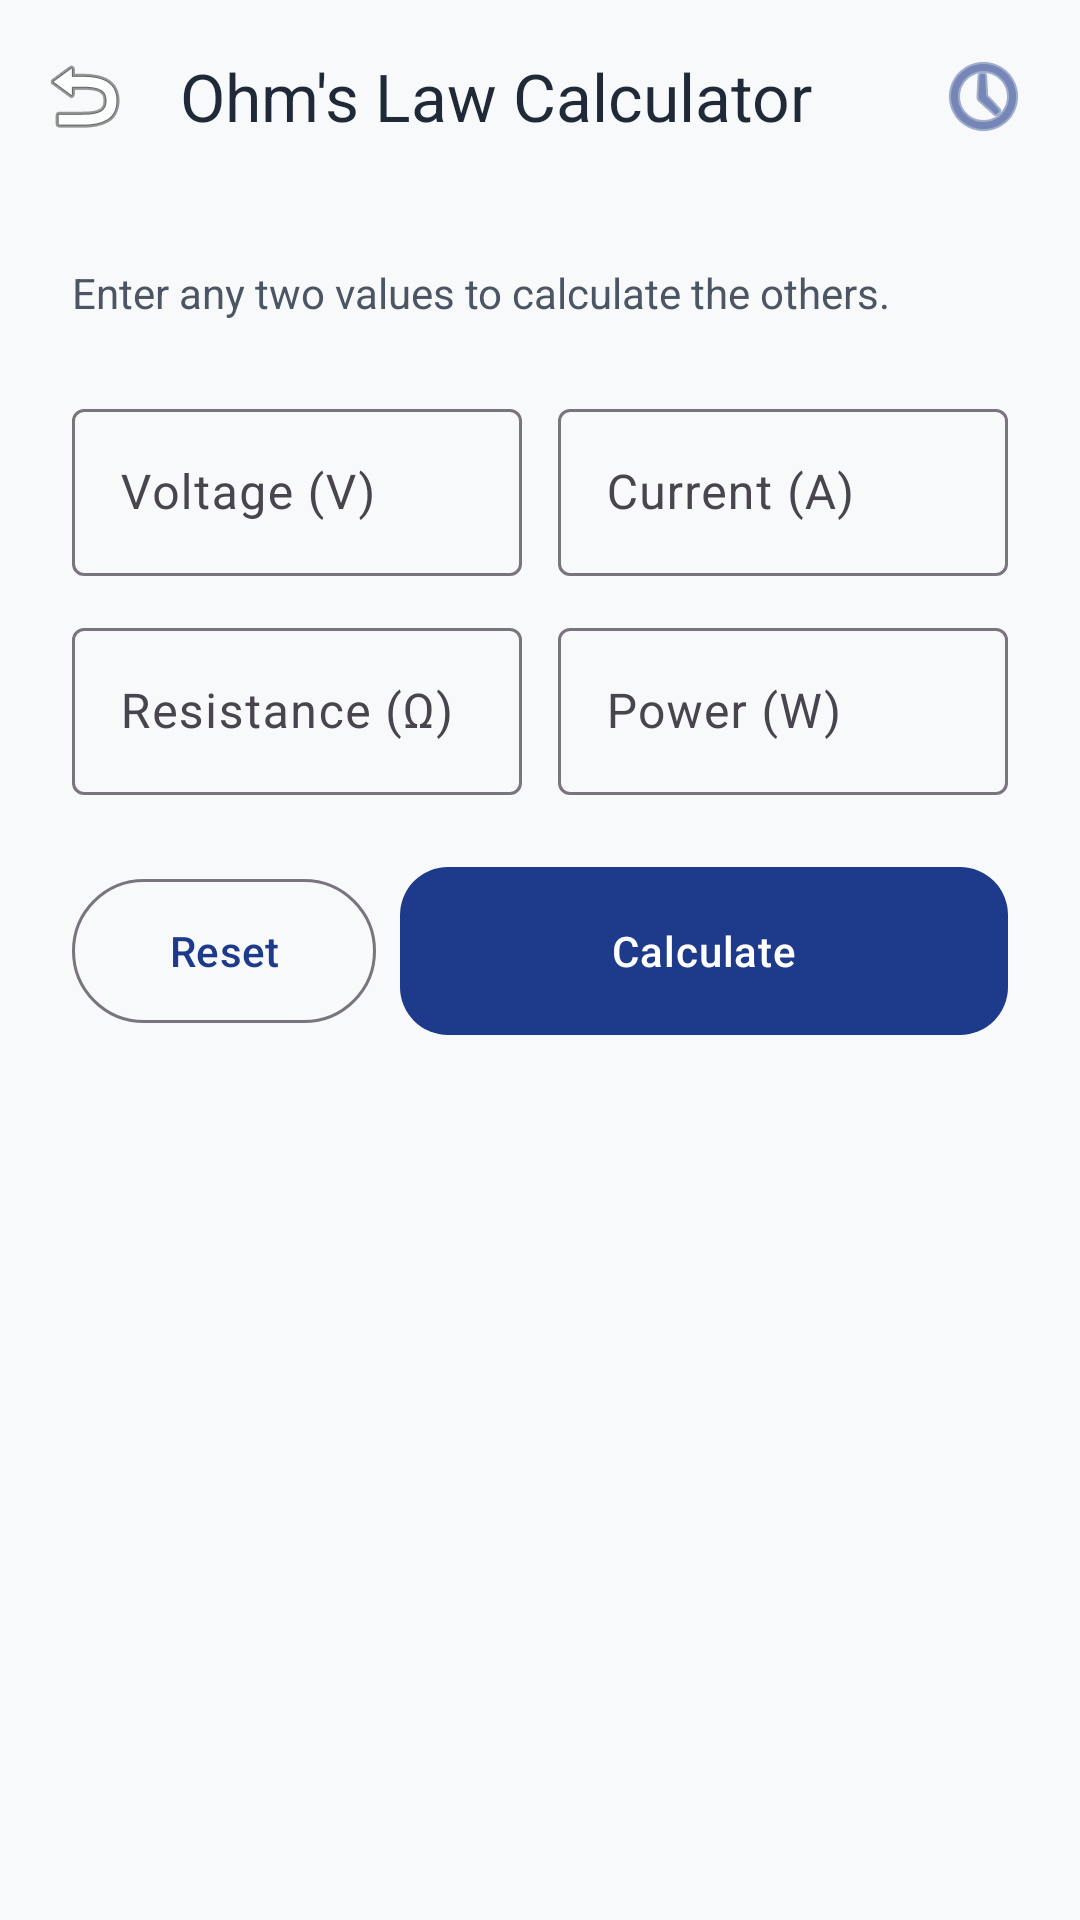

Icon click points for this 1080w x 1920h phone screenshot, format (x=x, y=y):
History: (x=983, y=96)
